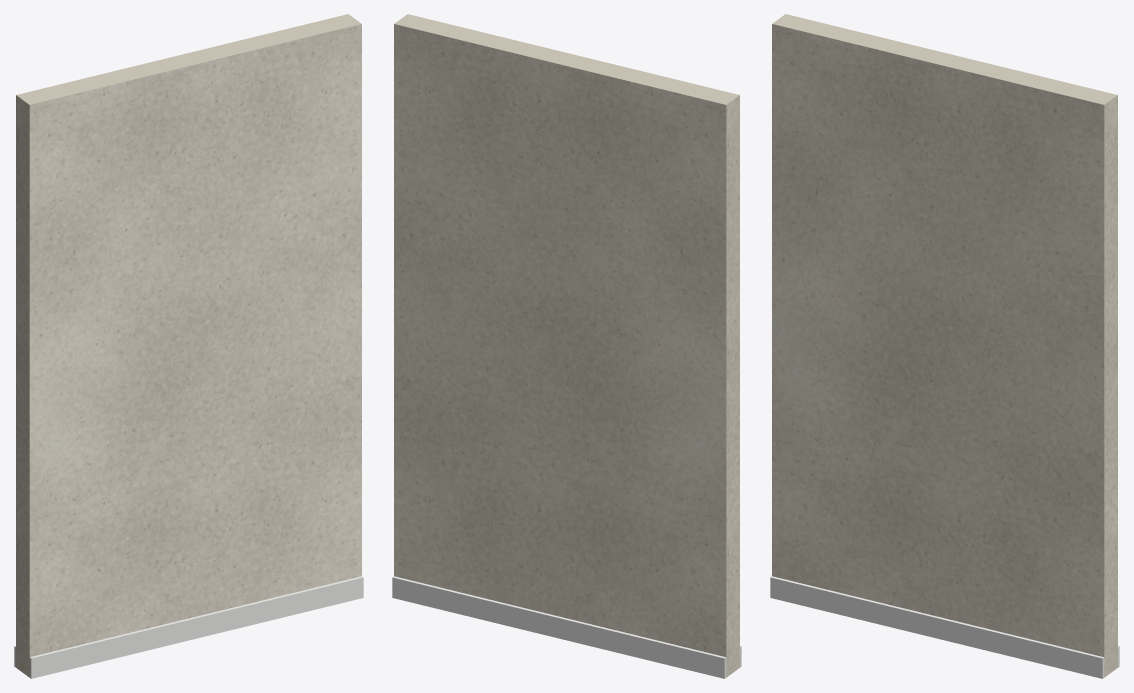
File: interior_wall_end.glb
3 renders of one model, left to right at view 1: azimuth 30°, elevation 25°; view 2: azimuth 150°, elevation 25°; view 3: azimuth 330°, elevation 25°, orthographic.
Parts seen in each view (by area): view 1: interior_wall_end_plaster, interior_wall_end_trim; view 2: interior_wall_end_plaster, interior_wall_end_trim; view 3: interior_wall_end_plaster, interior_wall_end_trim.
Part boxes in pixels (box(x1,y1,x2,y2)): interior_wall_end_plaster: box(16, 14, 361, 677); interior_wall_end_trim: box(14, 576, 363, 678); interior_wall_end_plaster: box(394, 14, 739, 677); interior_wall_end_trim: box(392, 576, 741, 678); interior_wall_end_plaster: box(772, 14, 1117, 677); interior_wall_end_trim: box(770, 576, 1119, 678).
Bounding box in the file's own units: 1.7 × 2.8 × 0.15.
Materials: 2 (1 with a texture image).
